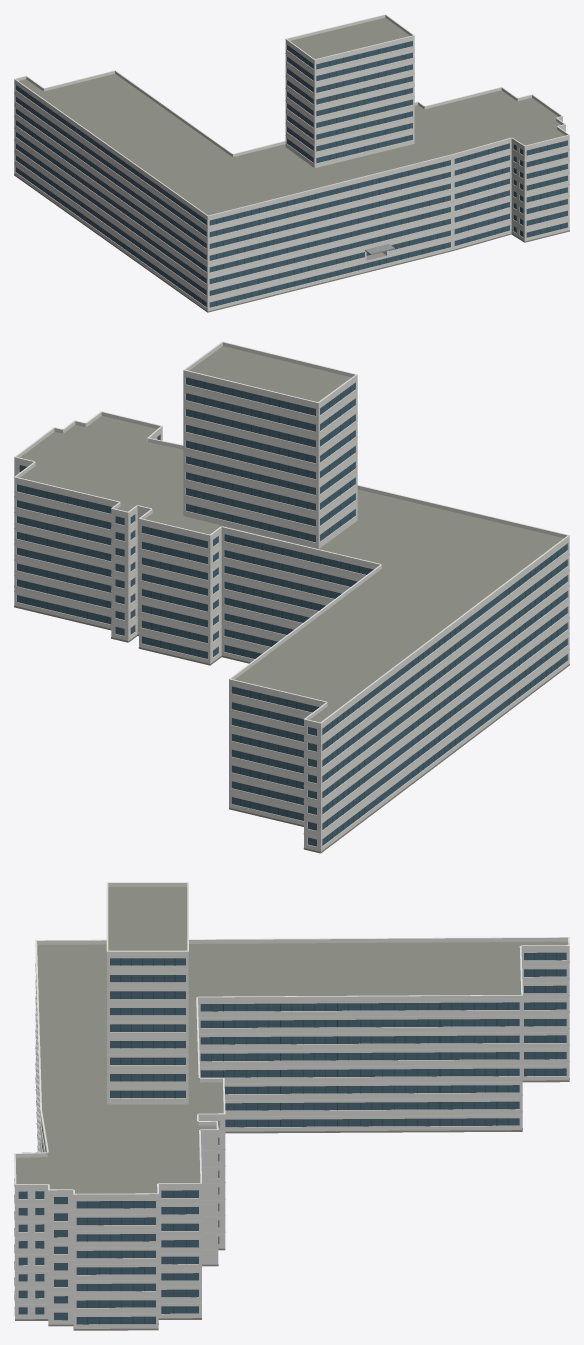
3 renders of one model, top to bottom at view 1: azimuth 30°, elevation 25°; view 2: azimuth 150°, elevation 25°; view 3: azimuth 270°, elevation 25°, orthographic. The views are drawn at different scales.
Parts seen in each view (by area): view 1: hospitalMain__wall, hospitalMain__glass, hospitalMain__roof, hospitalMain__trim, hospitalMain__parapet, hospitalMain__frame, hospitalMain__base; view 2: hospitalMain__wall, hospitalMain__glass, hospitalMain__roof, hospitalMain__trim, hospitalMain__parapet, hospitalMain__frame, hospitalMain__base; view 3: hospitalMain__wall, hospitalMain__roof, hospitalMain__glass, hospitalMain__trim, hospitalMain__parapet, hospitalMain__frame, hospitalMain__base.
Part boxes in pixels (<box>): hospitalMain__wall: <box>14,38,569,311</box>; hospitalMain__glass: <box>15,41,567,307</box>; hospitalMain__roof: <box>19,17,564,215</box>; hospitalMain__trim: <box>14,14,569,301</box>; hospitalMain__parapet: <box>14,15,569,218</box>; hospitalMain__frame: <box>23,43,560,305</box>; hospitalMain__base: <box>14,174,569,312</box>; hospitalMain__wall: <box>14,374,569,852</box>; hospitalMain__glass: <box>17,377,567,846</box>; hospitalMain__roof: <box>20,346,563,722</box>; hospitalMain__trim: <box>14,341,569,837</box>; hospitalMain__parapet: <box>14,342,569,726</box>; hospitalMain__frame: <box>26,380,557,842</box>; hospitalMain__base: <box>14,586,569,853</box>; hospitalMain__wall: <box>14,949,569,1328</box>; hospitalMain__roof: <box>16,887,567,1330</box>; hospitalMain__glass: <box>18,952,566,1324</box>; hospitalMain__trim: <box>14,882,569,1314</box>; hospitalMain__parapet: <box>15,883,569,1198</box>; hospitalMain__frame: <box>42,953,556,1324</box>; hospitalMain__base: <box>14,1078,569,1330</box>.
Bounding box in the file's own units: 127 × 65.52 × 116.
